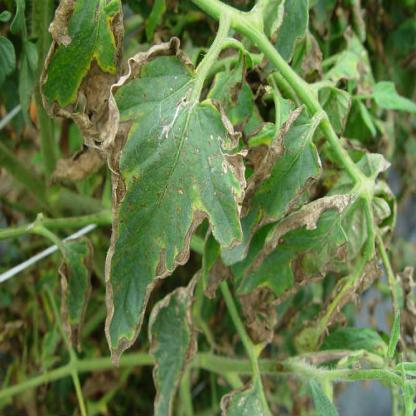tomato leaf bacterial spot: (82, 14, 248, 367)
